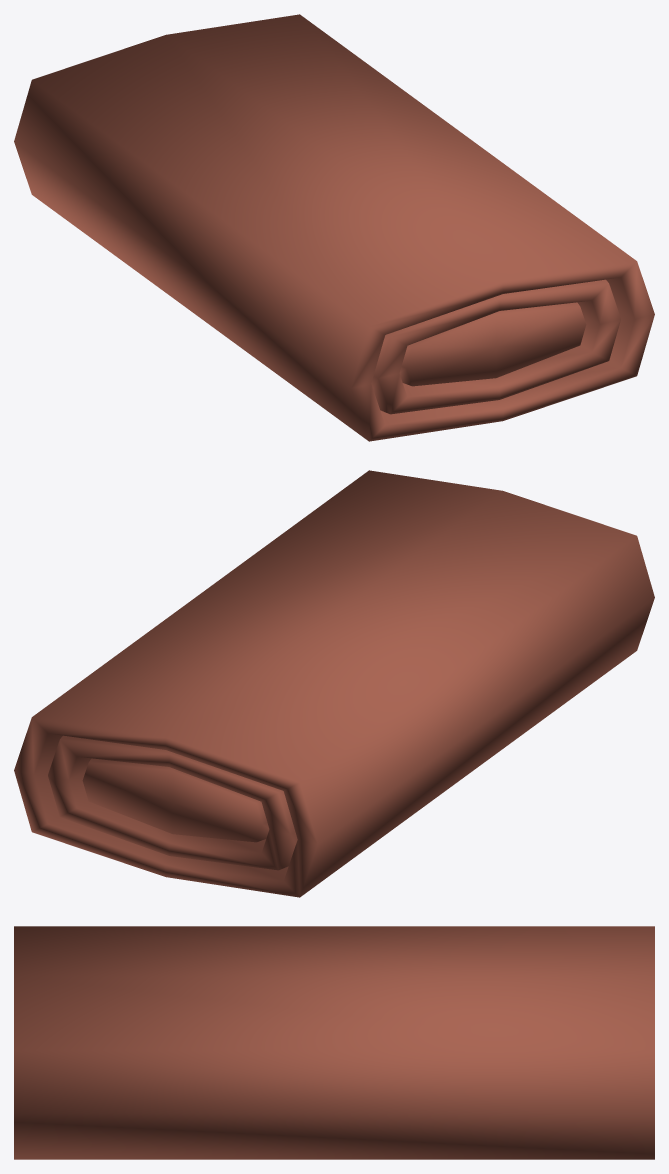
File: rpgpp_ag_carpet_02b.fbx
The picture shows the model from 3 angles, top to bottom: view 1: azimuth 30°, elevation 25°; view 2: azimuth 150°, elevation 25°; view 3: azimuth 270°, elevation 25°; orthographic projection. The views are drawn at different scales.
Visible parts, largest first — view 1: rpgpp_ag_carpet_02b; view 2: rpgpp_ag_carpet_02b; view 3: rpgpp_ag_carpet_02b.
Part boxes in pixels (box(x1,y1,x2,y2)): rpgpp_ag_carpet_02b: box(14, 14, 654, 441); rpgpp_ag_carpet_02b: box(14, 470, 654, 897); rpgpp_ag_carpet_02b: box(14, 926, 654, 1159).
Bounding box in the file's own units: 0.52 × 0.2281 × 1.
